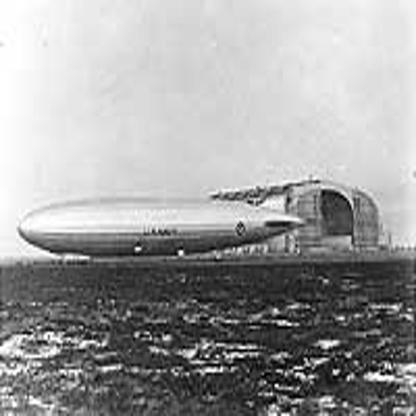Airship: (14, 195, 307, 269)
